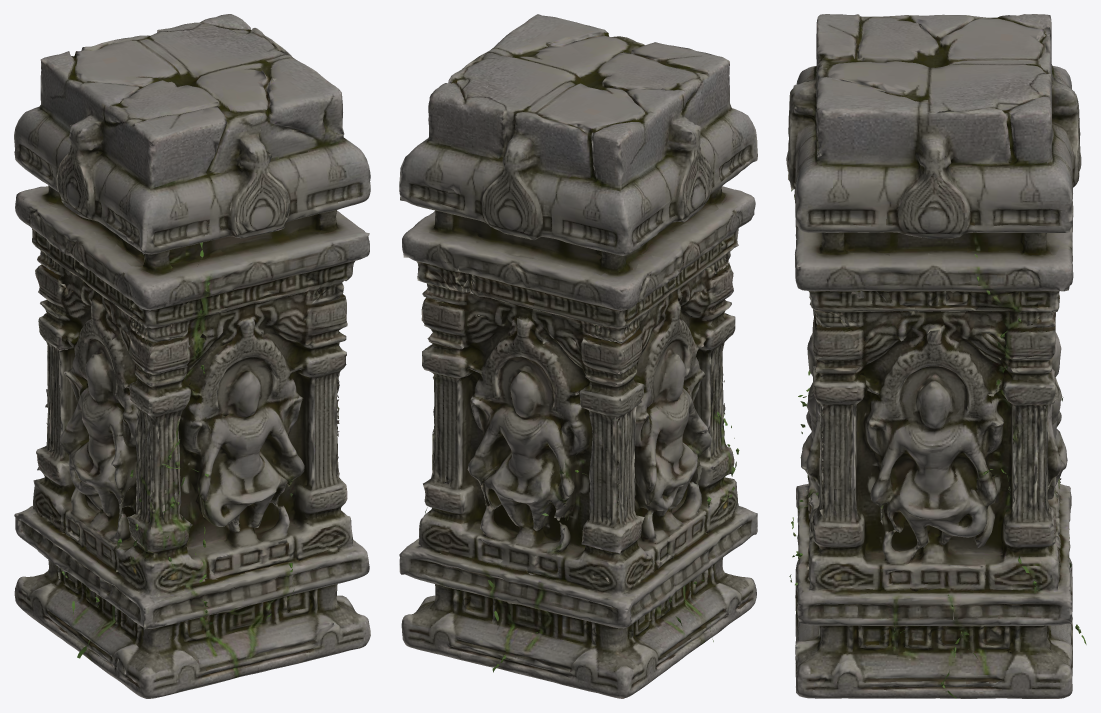
File: temple-pillar-square-shape-optimized.glb
The picture shows the model from 3 angles, left to right: view 1: azimuth 30°, elevation 25°; view 2: azimuth 150°, elevation 25°; view 3: azimuth 270°, elevation 25°; orthographic projection. The views are drawn at different scales.
Parts seen in each view (by area): view 1: tripo_node_fd3e0d4f-5605-4c98-8991-8f74c4b30cf5; view 2: tripo_node_fd3e0d4f-5605-4c98-8991-8f74c4b30cf5; view 3: tripo_node_fd3e0d4f-5605-4c98-8991-8f74c4b30cf5.
Boxes of the visible parts, x1,y1,x2,y2 form: tripo_node_fd3e0d4f-5605-4c98-8991-8f74c4b30cf5: (14, 14, 370, 698); tripo_node_fd3e0d4f-5605-4c98-8991-8f74c4b30cf5: (399, 14, 757, 698); tripo_node_fd3e0d4f-5605-4c98-8991-8f74c4b30cf5: (786, 14, 1086, 698).
Size of the model in its own units: 0.4734 by 1 by 0.4681.
Materials: 1 (1 with a texture image).
